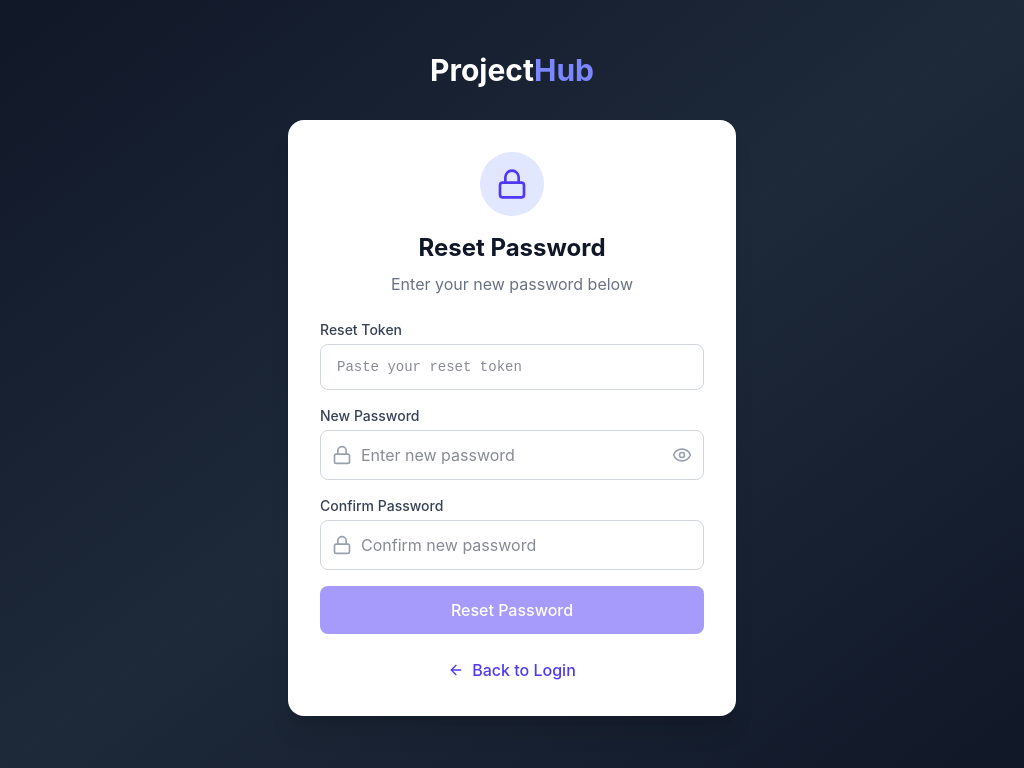
Test: ResetPassword › shows password mismatch warning
Type "password123" into the password field with placeholder "Enter new password" at (512, 455), box [320,430,704,480]
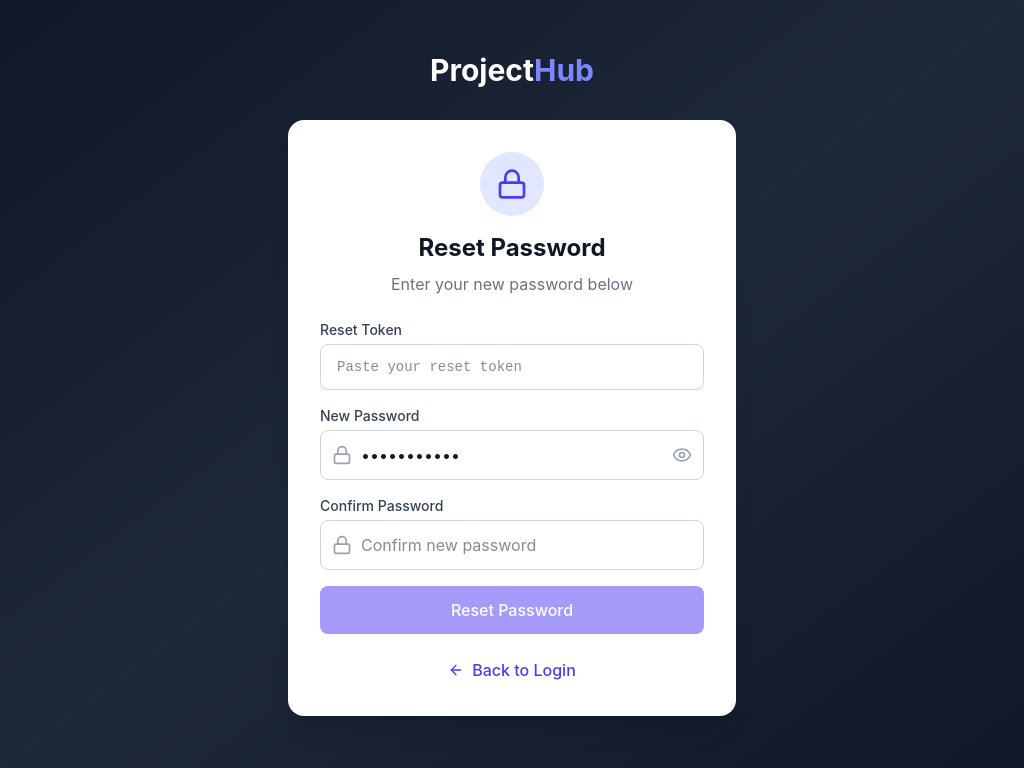
Type "different" into the password field with placeholder "Confirm new password" at (512, 545), box [320,520,704,570]
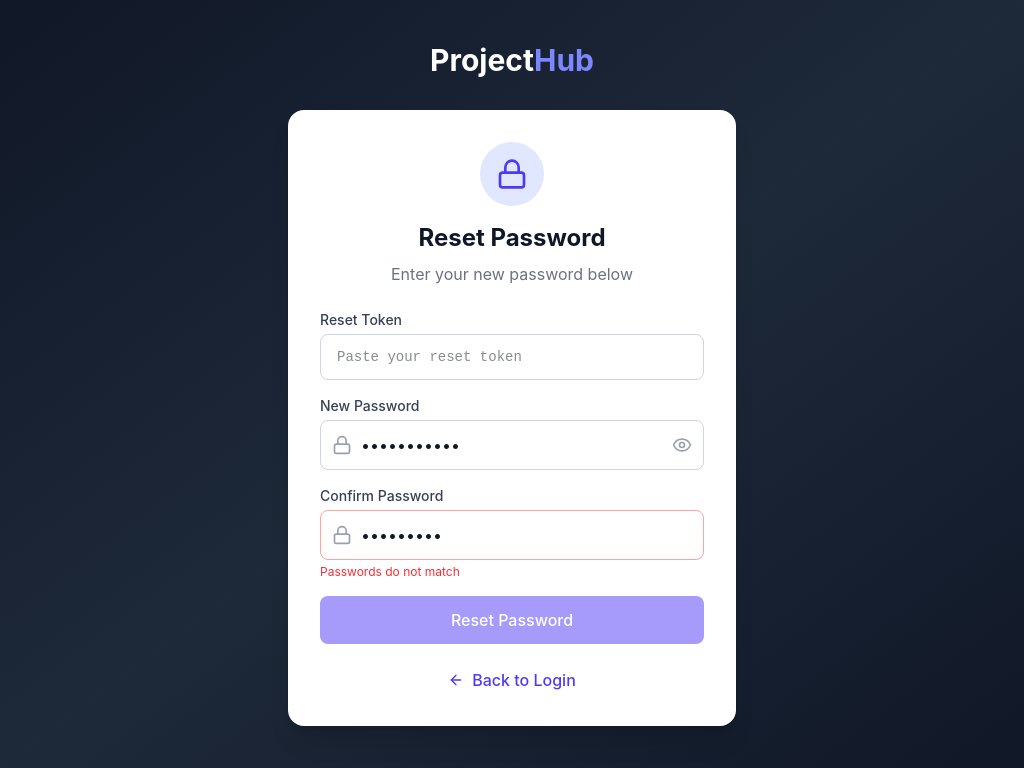
Now the text "Passwords do not match" is shown, box [320,564,460,579]
